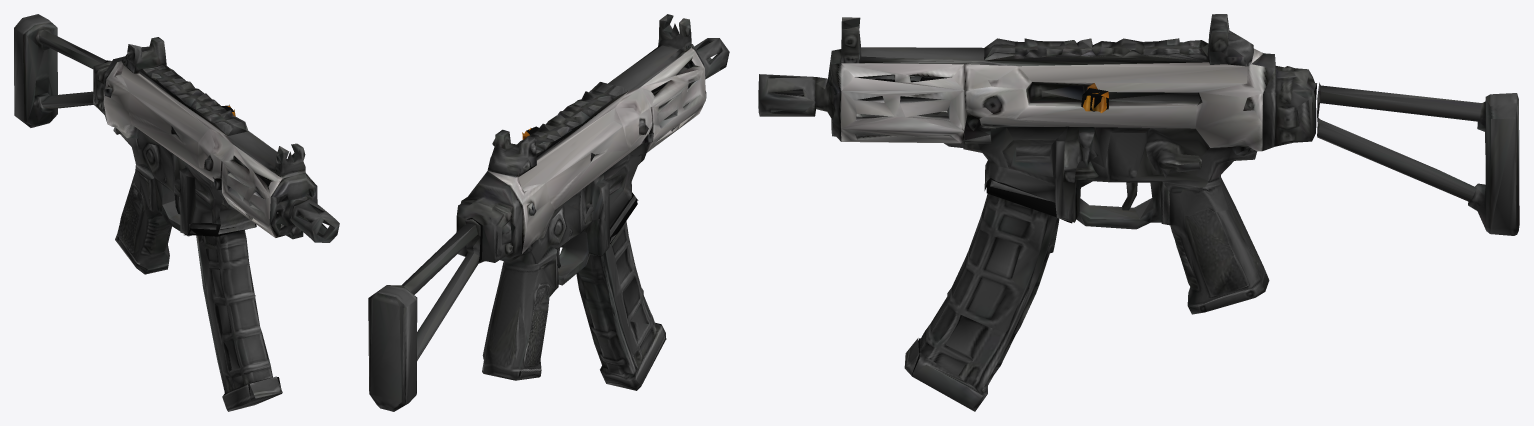
The model's file is wpn_smg_hornet_tp.glb.
3 renders of one model, left to right at view 1: azimuth 30°, elevation 25°; view 2: azimuth 150°, elevation 25°; view 3: azimuth 270°, elevation 25°, orthographic. The views are drawn at different scales.
Visible parts, largest first — view 1: body, mag, stock; view 2: body, stock, mag; view 3: body, mag, stock.
Part boxes in pixels (x1=…): body: x1=93, y1=37, x2=339, y2=401; mag: x1=184, y1=223, x2=281, y2=411; stock: x1=14, y1=14, x2=108, y2=127; body: x1=456, y1=14, x2=729, y2=380; stock: x1=368, y1=219, x2=480, y2=411; mag: x1=576, y1=194, x2=665, y2=390; body: x1=758, y1=14, x2=1316, y2=375; mag: x1=911, y1=178, x2=1072, y2=411; stock: x1=1317, y1=82, x2=1519, y2=235.
Bounding box in the file's own units: 0.083 × 0.3425 × 0.6196.
Materials: 1 (1 with a texture image).
